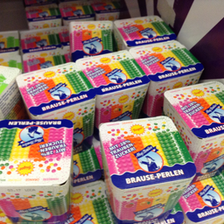candy: (98, 116, 195, 224), (1, 117, 76, 222), (131, 37, 202, 122), (163, 80, 223, 177), (80, 55, 146, 141)
